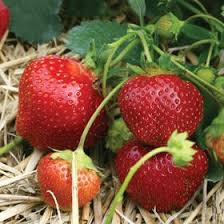strawberry: (14, 53, 109, 152), (115, 137, 209, 213), (116, 69, 206, 148), (37, 149, 102, 212)
